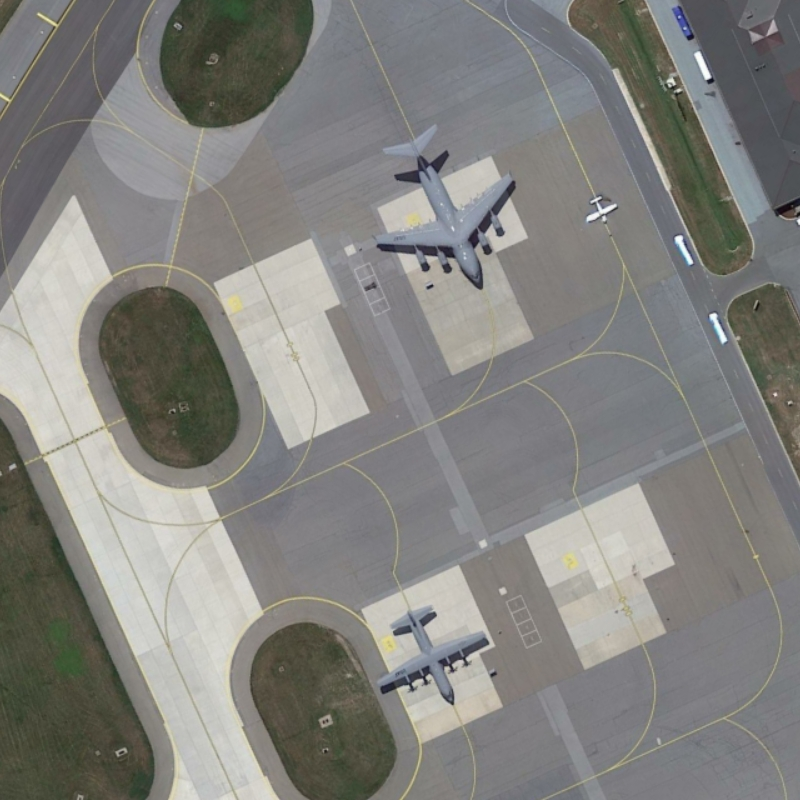A2: (370, 598, 492, 709)
A3: (369, 114, 522, 293)
